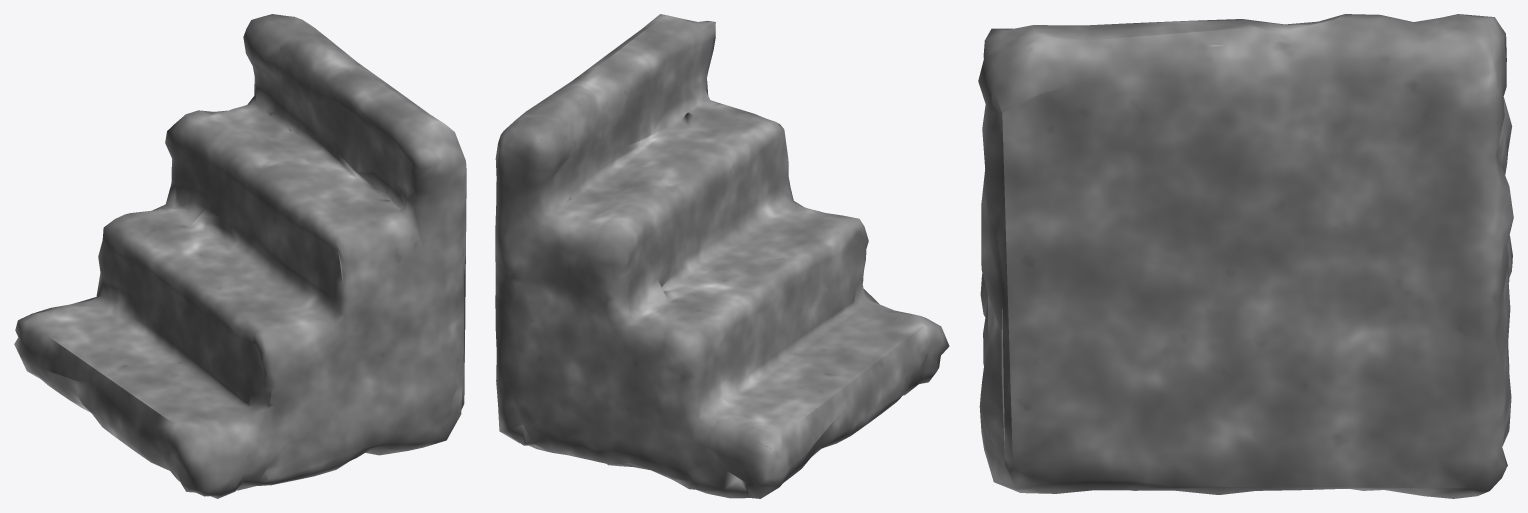
Rendered from Main Rock 9.fbx.
3 views of the same model, side by side, from view 1: azimuth 30°, elevation 25°; view 2: azimuth 150°, elevation 25°; view 3: azimuth 270°, elevation 25° (orthographic). The views are drawn at different scales.
Visible parts, largest first — view 1: Main Rock 9 Stairs 2; view 2: Main Rock 9 Stairs 2; view 3: Main Rock 9 Stairs 2.
Boxes of the visible parts, left/top/right/bottom form: Main Rock 9 Stairs 2: left=14, top=14, right=466, bottom=498; Main Rock 9 Stairs 2: left=495, top=14, right=949, bottom=498; Main Rock 9 Stairs 2: left=978, top=14, right=1513, bottom=498.
Bounding box in the file's own units: 169 × 181 × 183.
